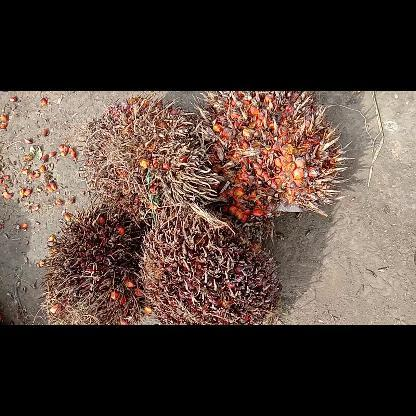Terlalu masak: (192, 91, 356, 221), (78, 91, 218, 221), (134, 210, 282, 324), (39, 202, 151, 324)
